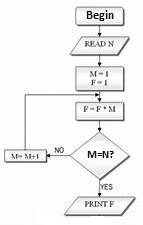data: (68, 33, 131, 57)
decision: (69, 131, 132, 180)
process: (74, 65, 126, 93), (73, 5, 128, 27), (74, 101, 126, 122), (3, 148, 48, 164)
text: (23, 91, 100, 152), (88, 69, 109, 87), (84, 9, 115, 21), (81, 104, 117, 113), (83, 199, 115, 208), (87, 149, 115, 159), (84, 39, 115, 48), (9, 152, 41, 160), (97, 177, 104, 198), (99, 182, 114, 191), (96, 120, 103, 134), (53, 146, 66, 153), (97, 25, 103, 37), (97, 91, 103, 102), (97, 54, 102, 66)
